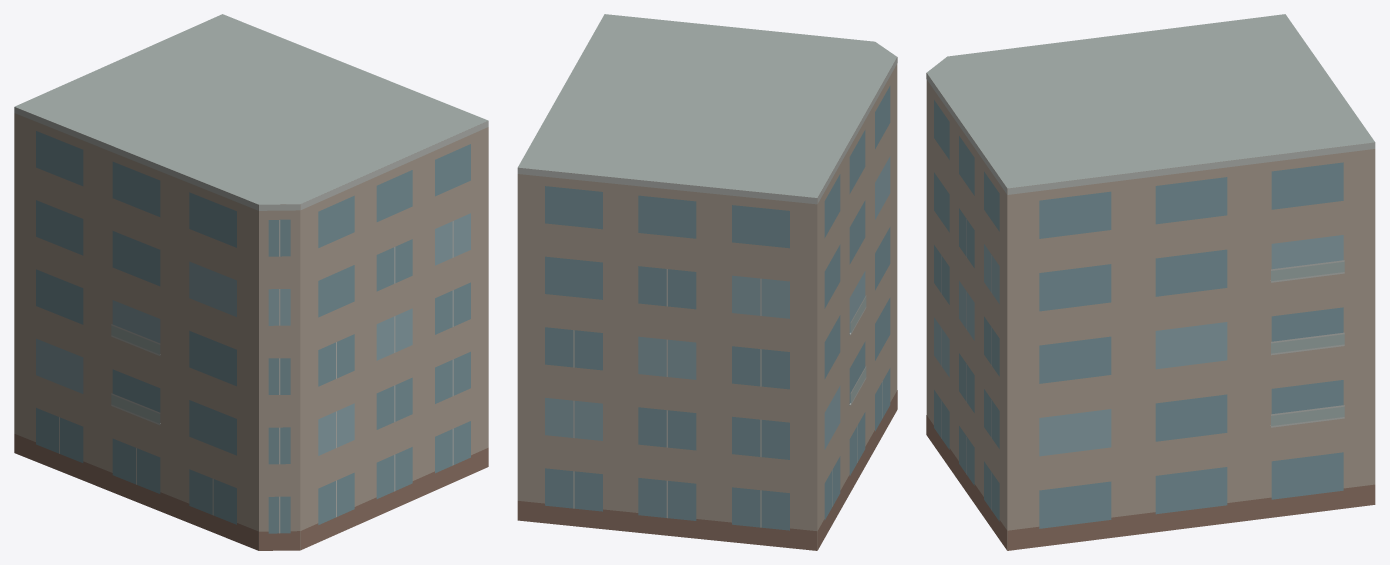
File: survey-upis-32857864.glb
3 renders of one model, left to right at view 1: azimuth 30°, elevation 25°; view 2: azimuth 150°, elevation 25°; view 3: azimuth 270°, elevation 25°, orthographic. The views are drawn at different scales.
Visible parts, largest first — view 1: survey-upis-32857864.tmp; view 2: survey-upis-32857864.tmp; view 3: survey-upis-32857864.tmp.
Part boxes in pixels (left/top/right/bottom): survey-upis-32857864.tmp: left=14, top=14, right=488, bottom=550; survey-upis-32857864.tmp: left=517, top=14, right=897, bottom=550; survey-upis-32857864.tmp: left=926, top=14, right=1375, bottom=550.
Size of the model in its own units: 14.06 by 13.6 by 15.28.
